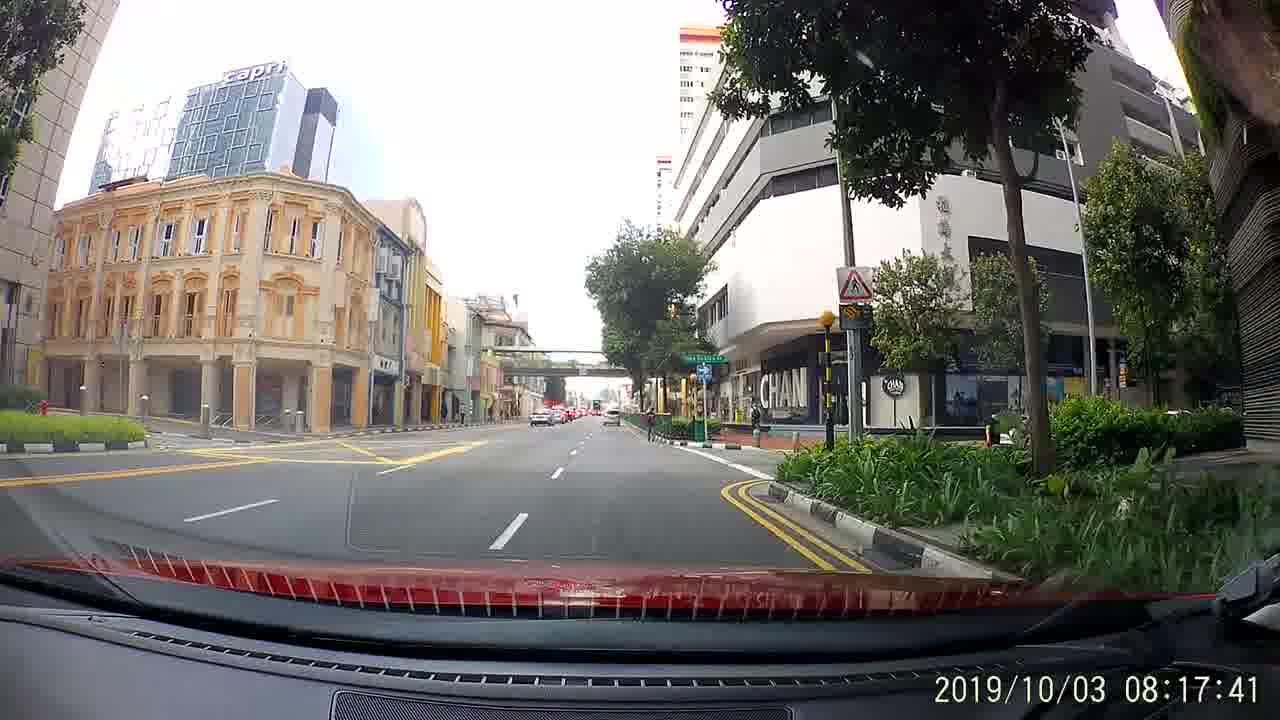car: (526, 402, 555, 430), (598, 405, 623, 430)
